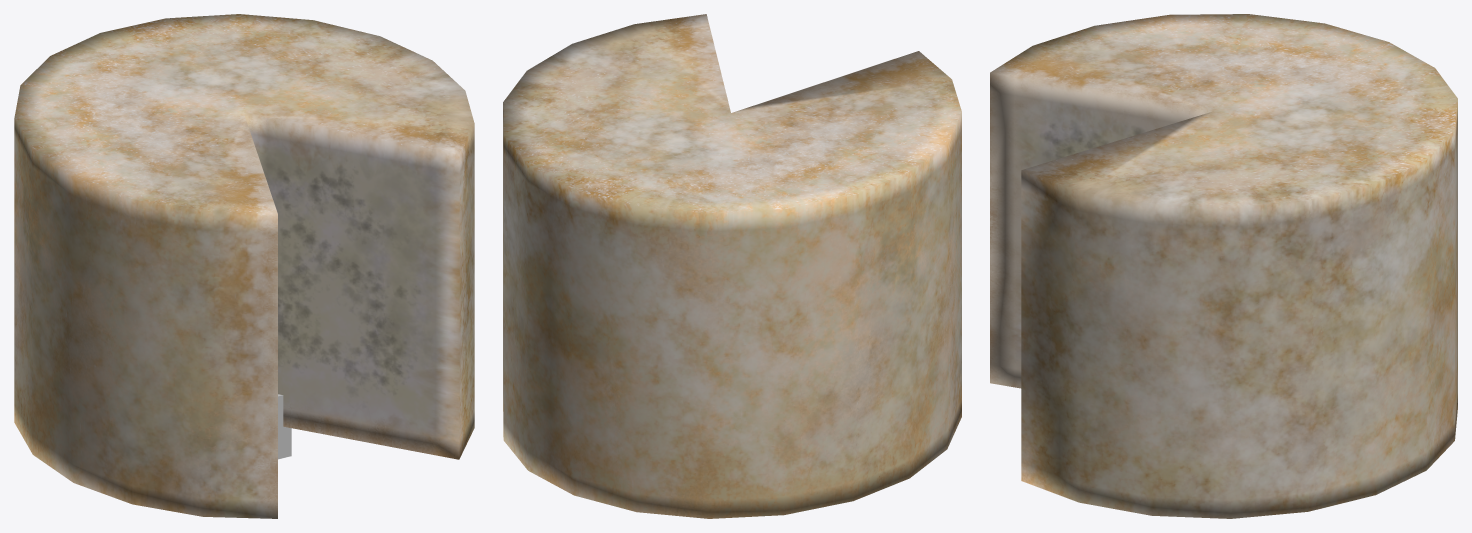
File: Cheese.obj
3 views of the same model, side by side, from view 1: azimuth 30°, elevation 25°; view 2: azimuth 150°, elevation 25°; view 3: azimuth 270°, elevation 25° (orthographic).
Visible parts, largest first — view 1: AgedCheese_OBJ, Cube.001; view 2: AgedCheese_OBJ; view 3: AgedCheese_OBJ.
Boxes of the visible parts, x1,y1,x2,y2 form: AgedCheese_OBJ: (14, 14, 474, 518); Cube.001: (278, 394, 291, 459); AgedCheese_OBJ: (503, 14, 961, 518); AgedCheese_OBJ: (990, 14, 1457, 518).
Size of the model in its own units: 1.51 by 1.24 by 1.53.
Materials: 2 (1 with a texture image).
